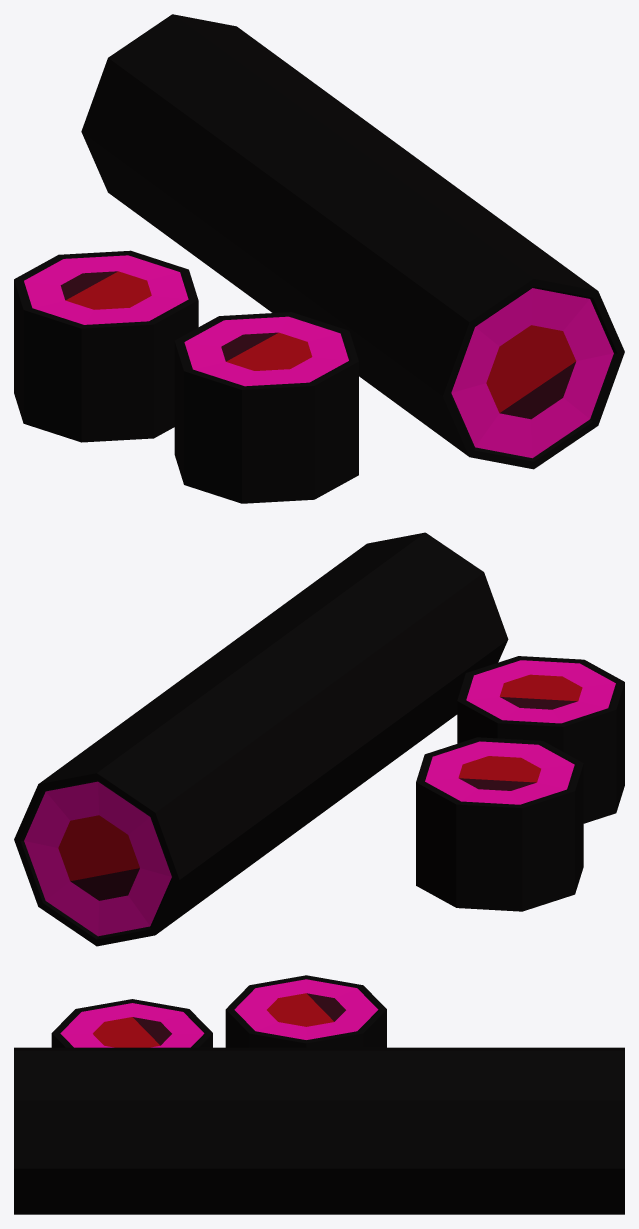
The model's file is Sushi_01.fbx.
3 renders of one model, top to bottom at view 1: azimuth 30°, elevation 25°; view 2: azimuth 150°, elevation 25°; view 3: azimuth 270°, elevation 25°, orthographic. The views are drawn at different scales.
Visible parts, largest first — view 1: Sushi_01; view 2: Sushi_01; view 3: Sushi_01.
Boxes of the visible parts, bbox=[...] form: Sushi_01: bbox=[14, 14, 624, 503]; Sushi_01: bbox=[14, 532, 624, 946]; Sushi_01: bbox=[14, 975, 624, 1214].
Size of the model in its own units: 5.69 by 2.42 by 8.31.
